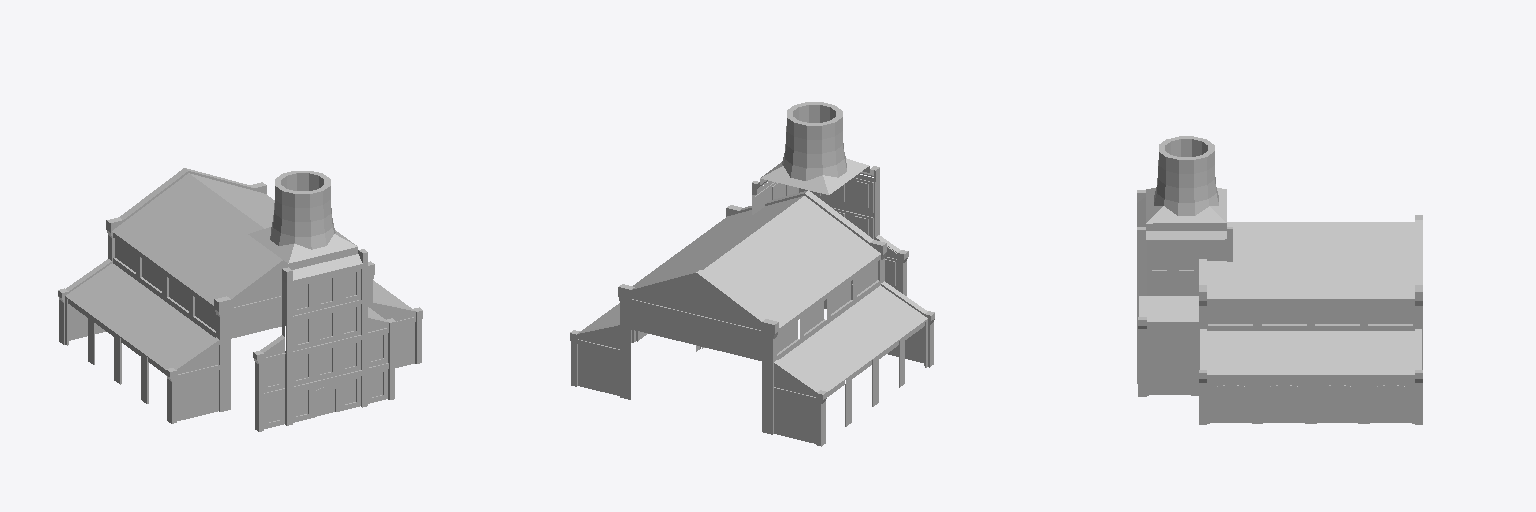
Rendered from tier3.obj.
3 renders of one model, left to right at view 1: azimuth 30°, elevation 25°; view 2: azimuth 150°, elevation 25°; view 3: azimuth 270°, elevation 25°, orthographic.
Parts seen in each view (by area): view 1: window, facade.003, facade, facade.001, chimney, facade.004, door1.004; view 2: facade, window, facade.001, chimney, facade.003, facade.004; view 3: window, facade.001, facade.002, facade.003, chimney, facade.004, facade, door1.001, door1.003, door1.002, door1.
Part boxes in pixels (x1,y1,x2,y2): window: (112,173,277,337); facade.003: (253,264,396,431); facade: (58,168,422,423); facade.001: (65,263,411,403); chimney: (270,171,335,249); facade.004: (248,227,367,282); door1.004: (313,382,338,417); facade: (570,190,934,446); window: (633,196,880,359); facade.001: (582,285,927,426); chimney: (782,102,846,180); facade.003: (752,174,908,308); facade.004: (752,158,879,194); window: (1207,222,1414,330); facade.001: (1207,331,1414,423); facade.002: (1147,296,1198,395); facade.003: (1137,241,1232,396); chimney: (1154,136,1218,215); facade.004: (1137,188,1232,240); facade: (1199,215,1422,424); door1.001: (1263,381,1304,422); door1.003: (1210,381,1251,422); door1.002: (1370,381,1411,422); door1: (1317,381,1357,422).
Size of the model in its own units: 26.19 by 21.29 by 25.6.